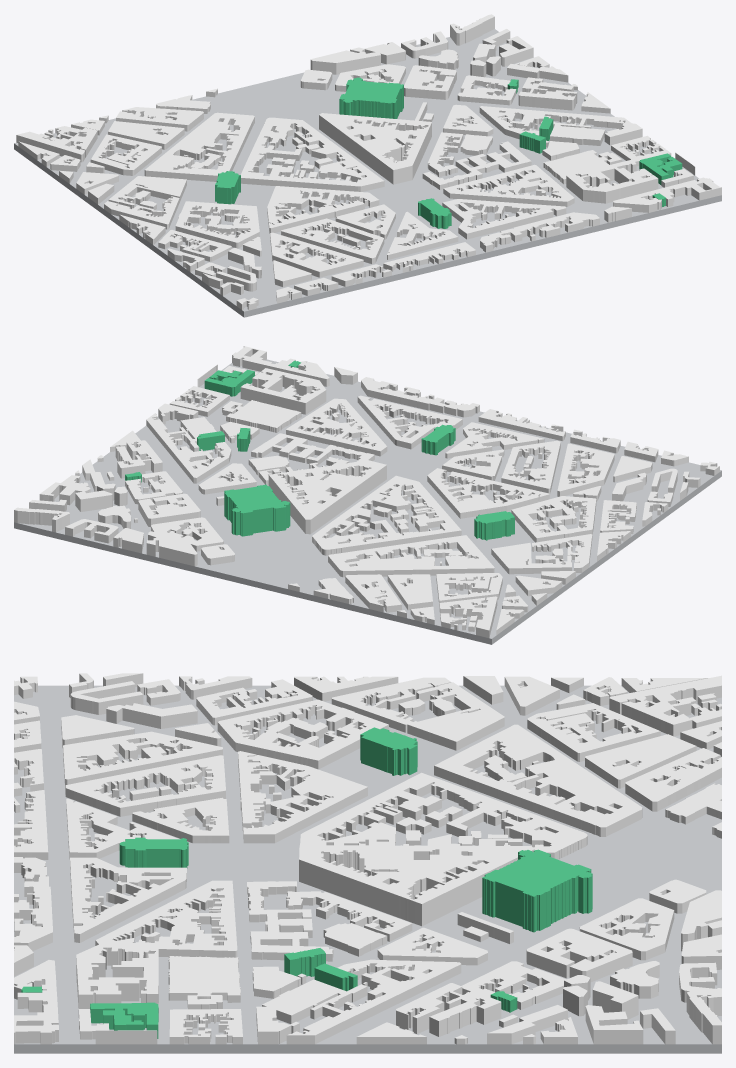
Rendered from pyramides-test-model.glb.
3 renders of one model, top to bottom at view 1: azimuth 30°, elevation 25°; view 2: azimuth 150°, elevation 25°; view 3: azimuth 270°, elevation 25°, orthographic. The views are drawn at different scales.
Visible parts, largest first — view 1: standard_building_or_marker, flat_lille_test_terrain, enhanced_landmark_massing; view 2: standard_building_or_marker, flat_lille_test_terrain, enhanced_landmark_massing; view 3: standard_building_or_marker, flat_lille_test_terrain, enhanced_landmark_massing.
Part boxes in pixels (x1=…): standard_building_or_marker: x1=16, y1=14, x2=721, y2=310; flat_lille_test_terrain: x1=14, y1=29, x2=721, y2=317; enhanced_landmark_massing: x1=215, y1=77, x2=682, y2=228; standard_building_or_marker: x1=14, y1=346, x2=719, y2=637; flat_lille_test_terrain: x1=14, y1=359, x2=721, y2=644; enhanced_landmark_massing: x1=125, y1=360, x2=514, y2=540; standard_building_or_marker: x1=14, y1=673, x2=721, y2=1044; flat_lille_test_terrain: x1=14, y1=685, x2=721, y2=1053; enhanced_landmark_massing: x1=21, y1=727, x2=592, y2=1038.
Size of the model in its own units: 4 by 0.2337 by 3.34.
